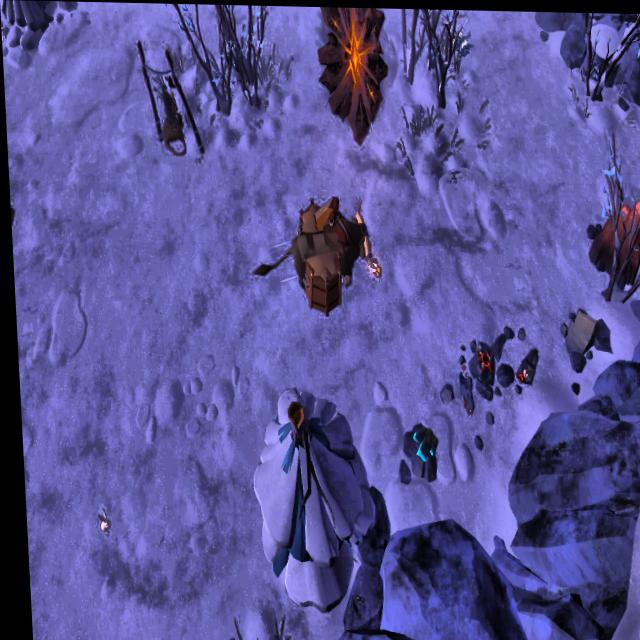fiber_t4: (449, 23, 473, 67)
ore_t4: (410, 420, 435, 461)
rock_t5: (582, 189, 640, 288)
